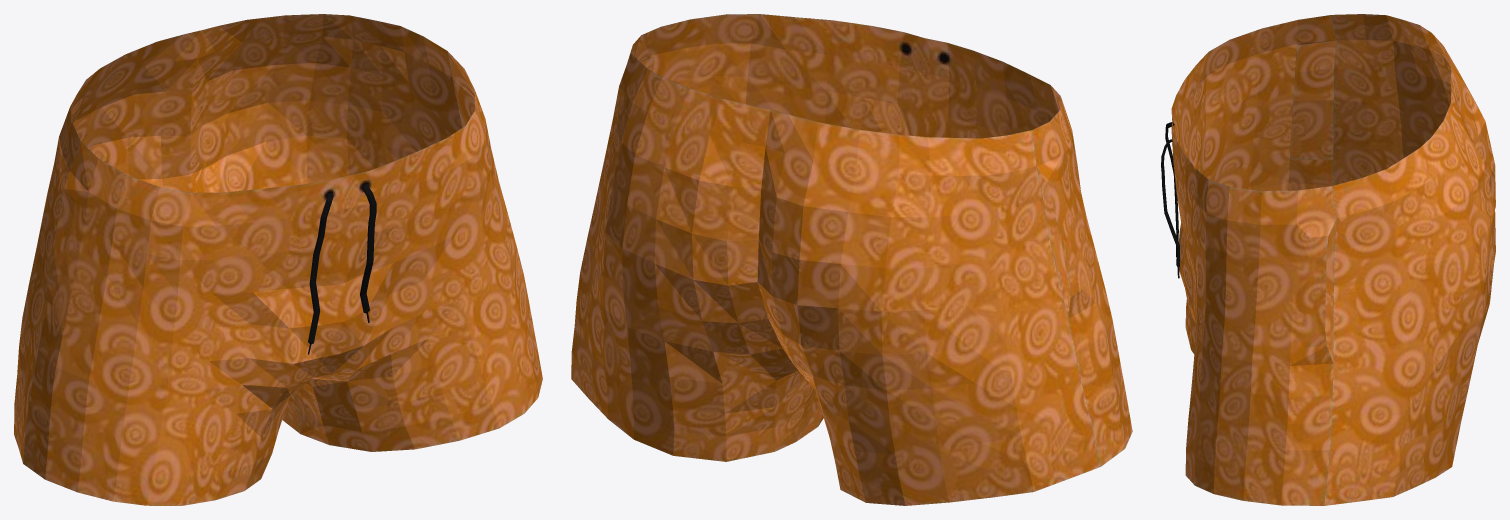
File: mhw_mindfront_male_swimming_trunks_02.glb
The picture shows the model from 3 angles, left to right: view 1: azimuth 30°, elevation 25°; view 2: azimuth 150°, elevation 25°; view 3: azimuth 270°, elevation 25°; orthographic projection. The views are drawn at different scales.
Visible parts, largest first — view 1: mhw_mindfront_male_swimming_trunks_02; view 2: mhw_mindfront_male_swimming_trunks_02; view 3: mhw_mindfront_male_swimming_trunks_02.
Boxes of the visible parts, x1,y1,x2,y2 form: mhw_mindfront_male_swimming_trunks_02: (14,14,542,505); mhw_mindfront_male_swimming_trunks_02: (571,14,1132,505); mhw_mindfront_male_swimming_trunks_02: (1161,14,1495,505).
Bounding box in the file's own units: 0.4178 × 0.2912 × 0.2586.
Materials: 1 (1 with a texture image).
